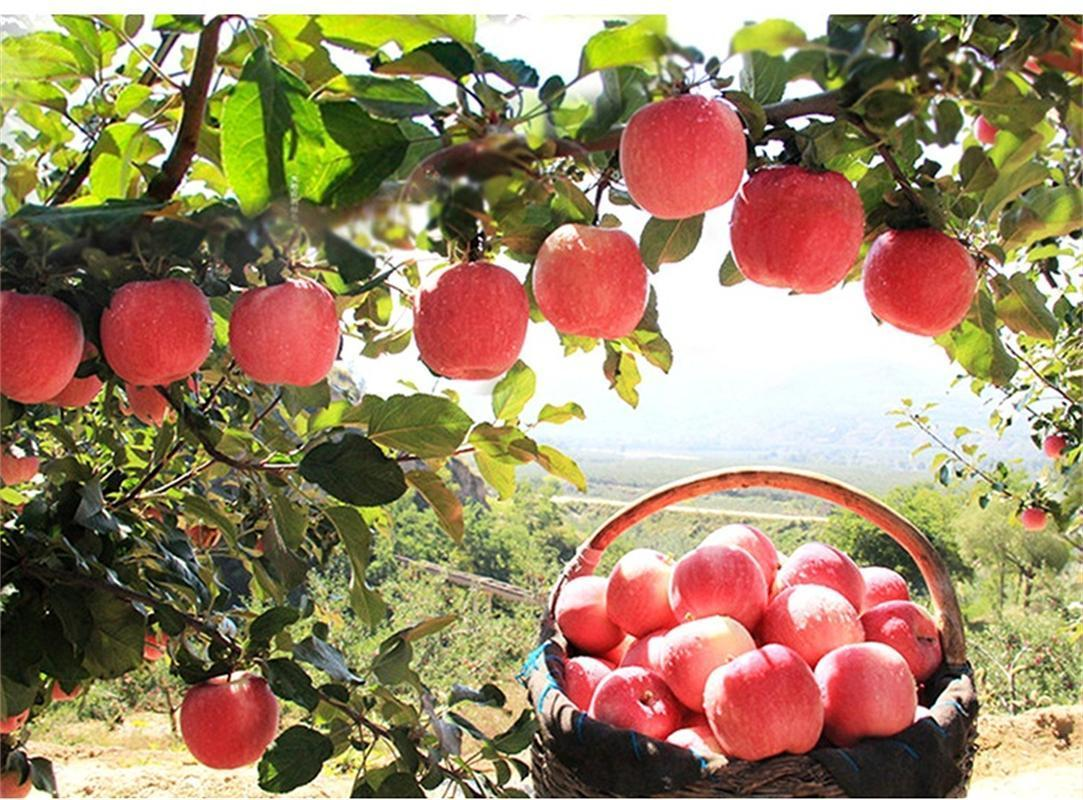apple: (733, 160, 866, 299), (616, 97, 749, 222), (405, 254, 538, 379), (528, 221, 661, 346), (704, 643, 829, 757), (231, 274, 341, 391), (103, 272, 213, 389), (863, 233, 975, 341), (176, 668, 278, 769), (1, 286, 84, 406), (816, 638, 914, 737), (659, 613, 755, 709), (671, 540, 764, 628), (758, 583, 861, 656), (604, 545, 679, 638), (590, 662, 679, 735)
